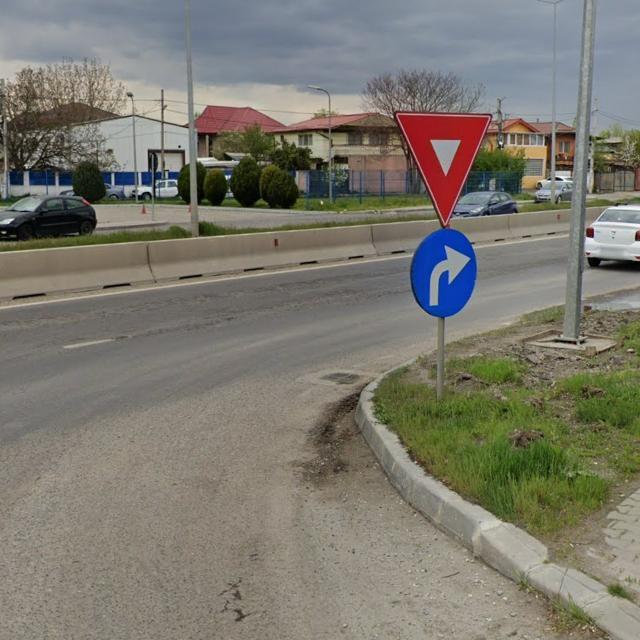prio_give_way: (392, 113, 495, 231)
